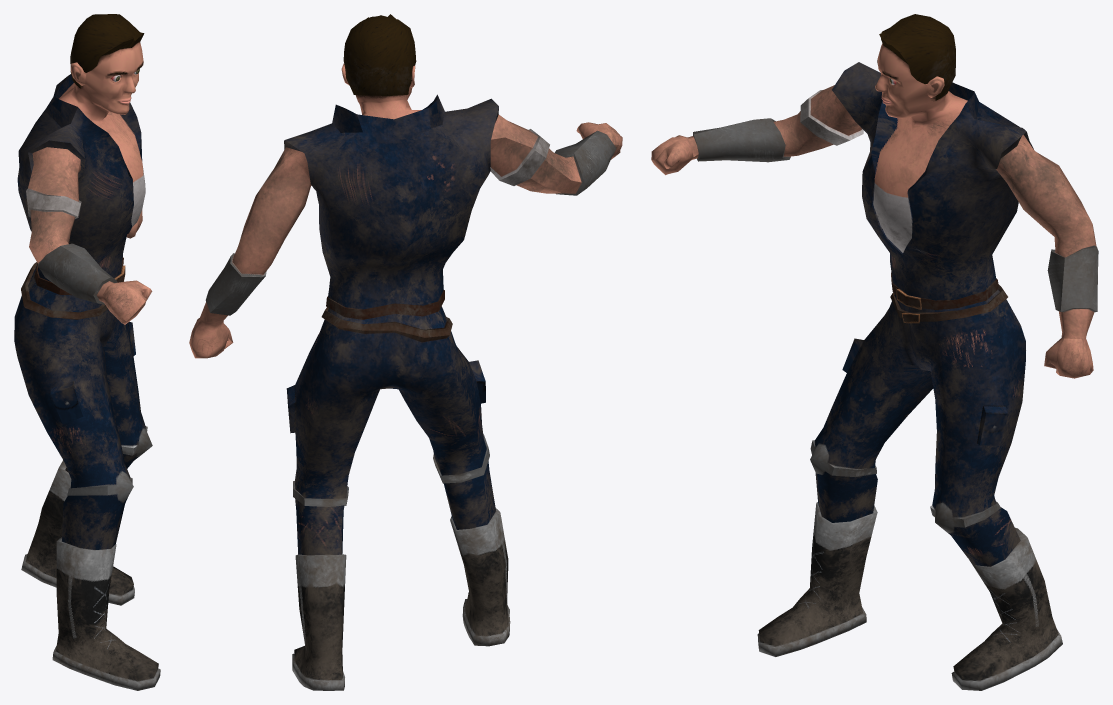
Rendered from Anim_abrir_puerta_ok_jugador.0030.obj.
3 renders of one model, left to right at view 1: azimuth 30°, elevation 25°; view 2: azimuth 150°, elevation 25°; view 3: azimuth 270°, elevation 25°, orthographic. The views are drawn at different scales.
Visible parts, largest first — view 1: polySurface1; view 2: polySurface1; view 3: polySurface1.
Boxes of the visible parts, left/top/right/bottom form: polySurface1: left=14, top=14, right=160, bottom=690; polySurface1: left=189, top=14, right=622, bottom=690; polySurface1: left=651, top=14, right=1098, bottom=690.
Size of the model in its own units: 3.81 by 9.37 by 5.87.
